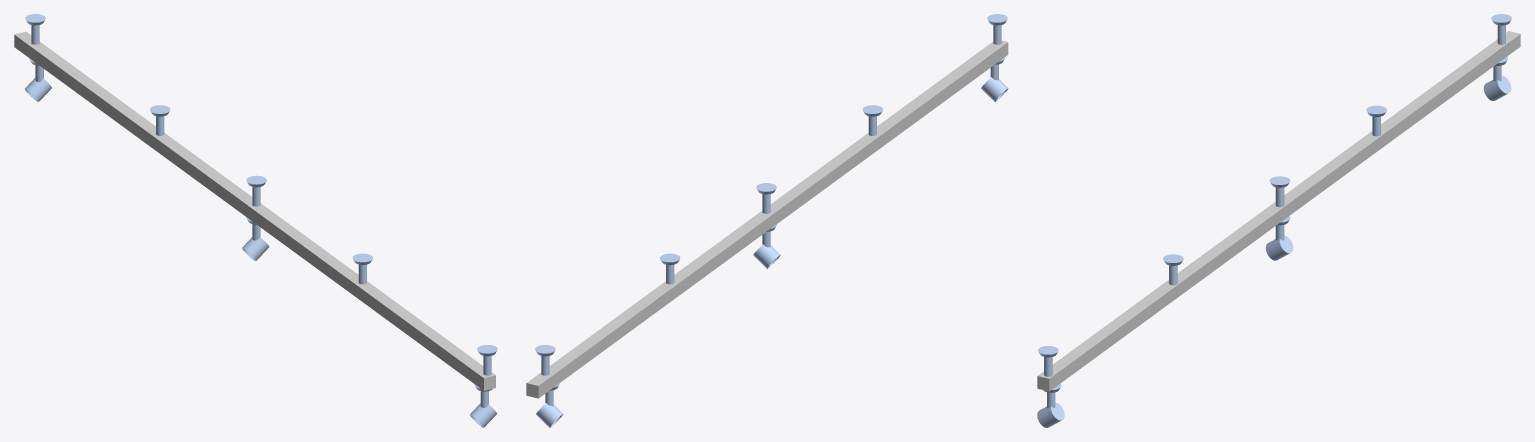
Rendered from gallery_lights.glb.
The picture shows the model from 3 angles, left to right: view 1: azimuth 30°, elevation 25°; view 2: azimuth 150°, elevation 25°; view 3: azimuth 330°, elevation 25°; orthographic projection.
Visible parts, largest first — view 1: Cube.271_11; view 2: Cube.271_11; view 3: Cube.271_11, Cylinder.192_22, Cylinder.191_21, Cylinder.189_19.
Part boxes in pixels (x1,y1,x2,y2): Cube.271_11: [14, 31, 495, 390]; Cube.271_11: [526, 40, 1008, 398]; Cube.271_11: [1037, 31, 1520, 391]; Cylinder.192_22: [1265, 235, 1293, 260]; Cylinder.191_21: [1037, 402, 1064, 427]; Cylinder.189_19: [1483, 75, 1511, 100].
Bounding box in the file's own units: 1.29 × 4.18 × 44.75.
